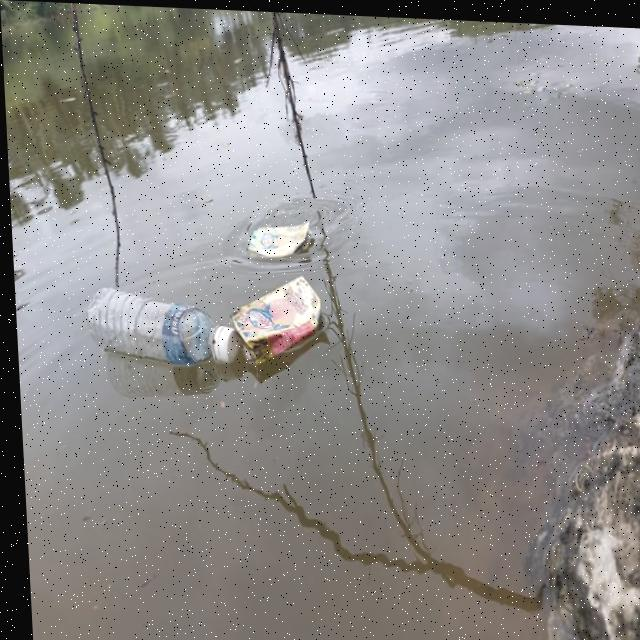paper: (233, 282, 335, 363), (234, 209, 323, 271)
waterbottle: (81, 273, 233, 378)
